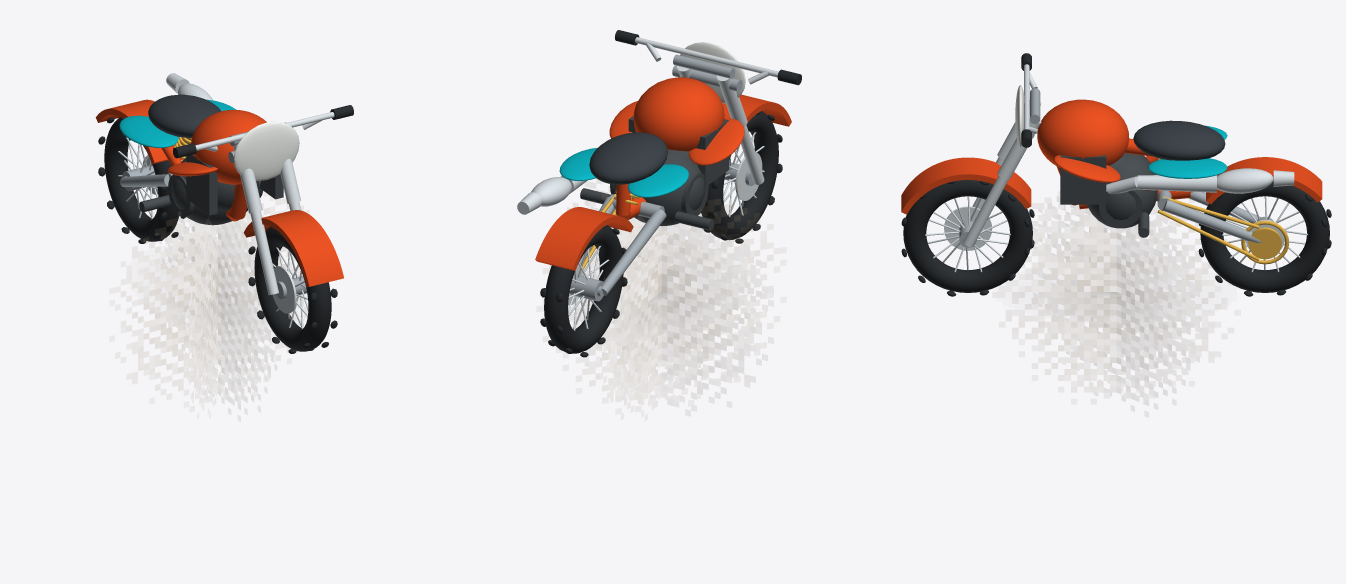
Rendered from bike.glb.
3 views of the same model, side by side, from view 1: azimuth 30°, elevation 25°; view 2: azimuth 150°, elevation 25°; view 3: azimuth 270°, elevation 25° (orthographic). The views are drawn at different scales.
Parts seen in each view (by area): view 1: wheel_f, wheel_r, fender_f, numberplate_f, tank, seat, engine, fork_l, radiator_l, numberplate_l, fender_r, bar (+8 smaller); view 2: wheel_r, tank, wheel_f, seat, fender_r, engine, swingarm, shroud_l, exhaust, fork_l, numberplate_l, triple_clamp (+11 smaller); view 3: wheel_f, wheel_r, tank, exhaust, seat, fender_f, engine, drive_detail, swingarm, fender_r, radiator_r, fork_r (+6 smaller).
Boxes of the visible parts, left/top/right/bottom form: wheel_f: left=248, top=227, right=337, bottom=353; wheel_r: left=98, top=117, right=185, bottom=243; fender_f: left=243, top=210, right=343, bottom=286; numberplate_f: left=233, top=121, right=299, bottom=180; tank: left=191, top=110, right=266, bottom=184; seat: left=148, top=94, right=220, bottom=137; engine: left=168, top=157, right=262, bottom=225; fork_l: left=233, top=144, right=278, bottom=295; radiator_l: left=186, top=154, right=217, bottom=215; numberplate_l: left=119, top=115, right=178, bottom=147; fender_r: left=95, top=99, right=173, bottom=164; bar: left=195, top=112, right=334, bottom=151; wheel_r: left=540, top=225, right=627, bottom=357; tank: left=633, top=77, right=724, bottom=151; wheel_f: left=701, top=111, right=782, bottom=243; seat: left=589, top=132, right=667, bottom=184; fender_r: left=535, top=207, right=633, bottom=270; engine: left=610, top=149, right=708, bottom=226; swingarm: left=578, top=194, right=666, bottom=297; shroud_l: left=688, top=118, right=744, bottom=165; exhaust: left=517, top=176, right=587, bottom=214; fork_l: left=716, top=75, right=764, bottom=184; numberplate_l: left=627, top=164, right=688, bottom=197; triple_clamp: left=672, top=54, right=742, bottom=91; wheel_f: left=901, top=180, right=1034, bottom=296; wheel_r: left=1198, top=181, right=1331, bottom=296; tank: left=1037, top=99, right=1129, bottom=167; exhaust: left=1106, top=168, right=1294, bottom=194; seat: left=1133, top=120, right=1225, bottom=160; fender_f: left=901, top=157, right=1031, bottom=214; engine: left=1087, top=153, right=1157, bottom=228; drive_detail: left=1157, top=196, right=1289, bottom=264; swingarm: left=1157, top=190, right=1261, bottom=243; fender_r: left=1206, top=157, right=1322, bottom=204; radiator_r: left=1060, top=155, right=1106, bottom=204; fork_r: left=963, top=115, right=1041, bottom=247.
Bounding box in the file's own units: 2 × 2.07 × 2.06.
52 materials, 19 textured.
